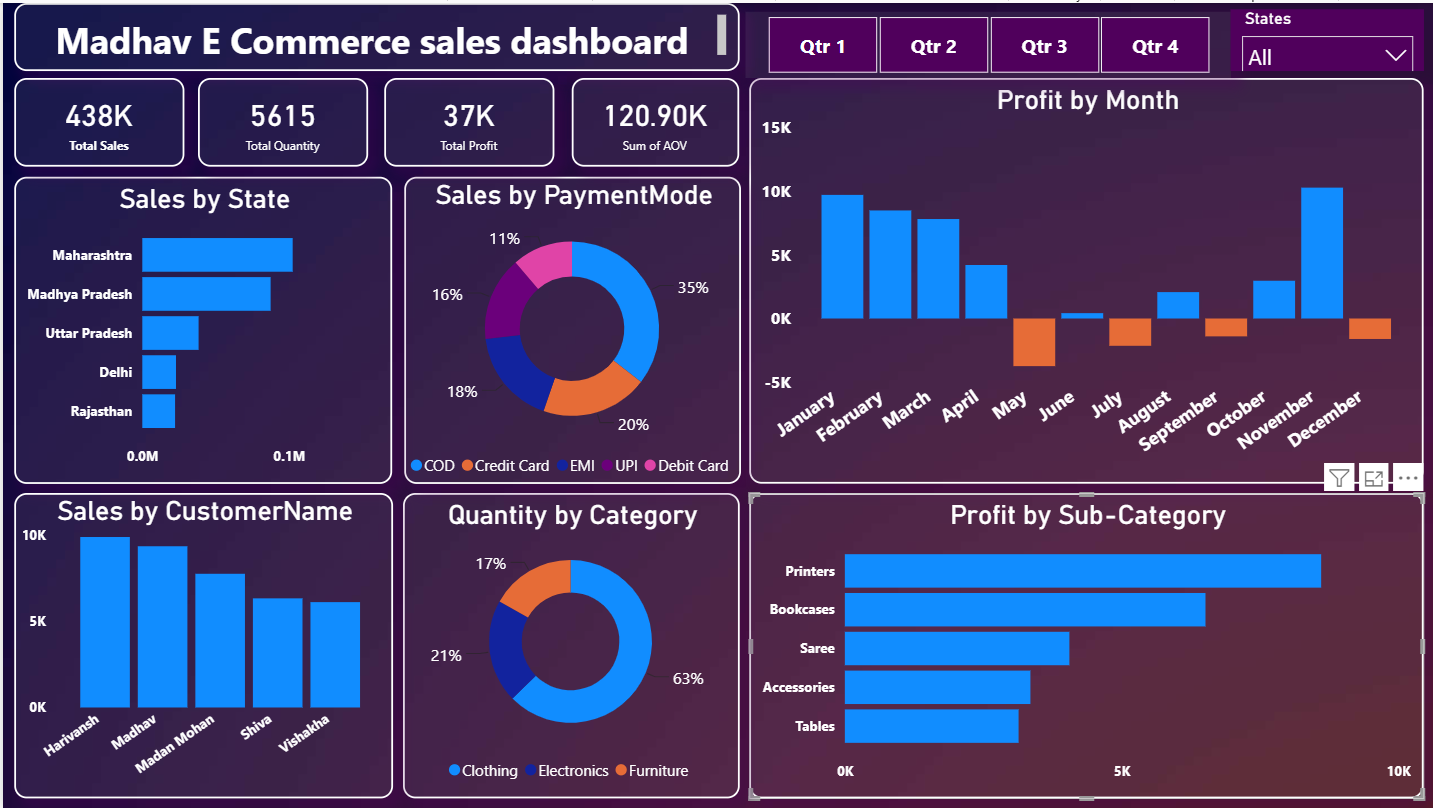

Layout of this report page (visuals, bound fields, positions):
{"tool":"powerbi","page":{"name":"Page 1","canvas":[1280,720],"ordinal":0},"visuals":[{"type":"textbox","box":[9.6,0,647.7,61],"z":0},{"type":"columnChart","title":"Profit by Month","fields":{"Y":["Sum(Details.Profit)"],"Category":["Orders.Order Date.Variation.Date Hierarchy.Month"]},"box":[666.9,67.2,602.4,362.3],"z":1000},{"type":"barChart","title":"Profit by Sub-Category","fields":{"Category":["Details.Sub-Category"],"Y":["Sum(Details.Profit)"]},"box":[666.9,437.7,602.4,273.1],"z":2000},{"type":"donutChart","title":"Quantity by Category","fields":{"Category":["Details.Category"],"Y":["Sum(Details.Quantity)"]},"box":[356.8,437.7,300.5,273.1],"z":3000},{"type":"donutChart","title":"Quantity by Category","fields":{"Category":["Details.PaymentMode"],"Y":["Sum(Details.Amount)"]},"box":[358.1,155.1,300.5,274.4],"z":4000},{"type":"barChart","title":"Amount by State","fields":{"Y":["Sum(Details.Amount)"],"Category":["Orders.State"]},"box":[9.6,155.1,337.6,274.4],"z":5000},{"type":"columnChart","fields":{"Y":["Sum(Details.Amount)"],"Category":["Orders.CustomerName"]},"box":[10,438,338,273],"z":6000},{"type":"card","fields":{"Values":["Sum(Details.Amount)"]},"box":[9.6,67.2,152.3,79.6],"z":7000},{"type":"card","fields":{"Values":["Sum(Details.Quantity)"]},"box":[174.3,67.2,152.3,79.6],"z":8000},{"type":"card","fields":{"Values":["Sum(Details.Profit)"]},"box":[340.3,67.2,152.3,79.6],"z":9000},{"type":"card","fields":{"Values":["Sum(Details.AOV)"]},"box":[507.7,67.2,149.6,79.6],"z":10000},{"type":"slicer","fields":{"Values":["Orders.Order Date.Variation.Date Hierarchy.Quarter"]},"box":[662.8,8.2,433.6,59],"z":10001},{"type":"slicer","fields":{"Values":["Orders.State"]},"box":[1096.4,5.5,172.9,54.9],"z":10002}]}

Visuals, with their boxes in screenshot pixels (x1, y1, x2, y2), scaled from the page's 1280x720 canvas onto the 1433x808 screenshot:
textbox: (11, 0, 736, 68)
"Profit by Month" columnChart: (747, 75, 1421, 482)
"Profit by Sub-Category" barChart: (747, 491, 1421, 798)
"Quantity by Category" donutChart: (399, 491, 736, 798)
"Quantity by Category" donutChart: (401, 174, 737, 482)
"Amount by State" barChart: (11, 174, 389, 482)
columnChart - Sum(Details.Amount) x Orders.CustomerName: (11, 492, 390, 798)
card - Sum(Details.Amount): (11, 75, 181, 165)
card - Sum(Details.Quantity): (195, 75, 366, 165)
card - Sum(Details.Profit): (381, 75, 551, 165)
card - Sum(Details.AOV): (568, 75, 736, 165)
slicer - Orders.Order Date.Variation.Date Hierarchy.Quarter: (742, 9, 1227, 75)
slicer - Orders.State: (1227, 6, 1421, 68)
